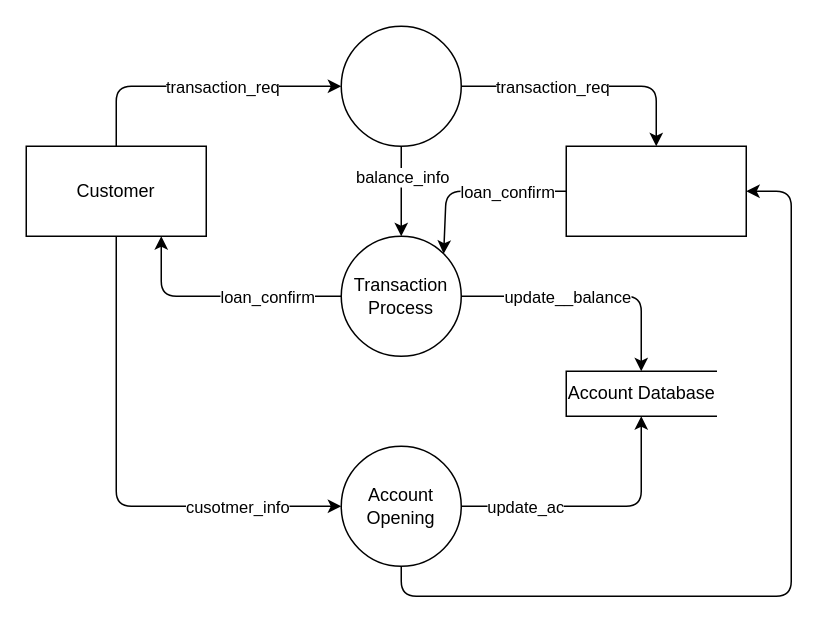
The diagram is 830 pixels wide and 635 high, and some of its shapes have lost their labels. The box of each missing label's shape, as (x1, y1, x2, y2) in pixels:
Balance Check: (340, 25, 461, 146)
Banker: (565, 145, 746, 236)
